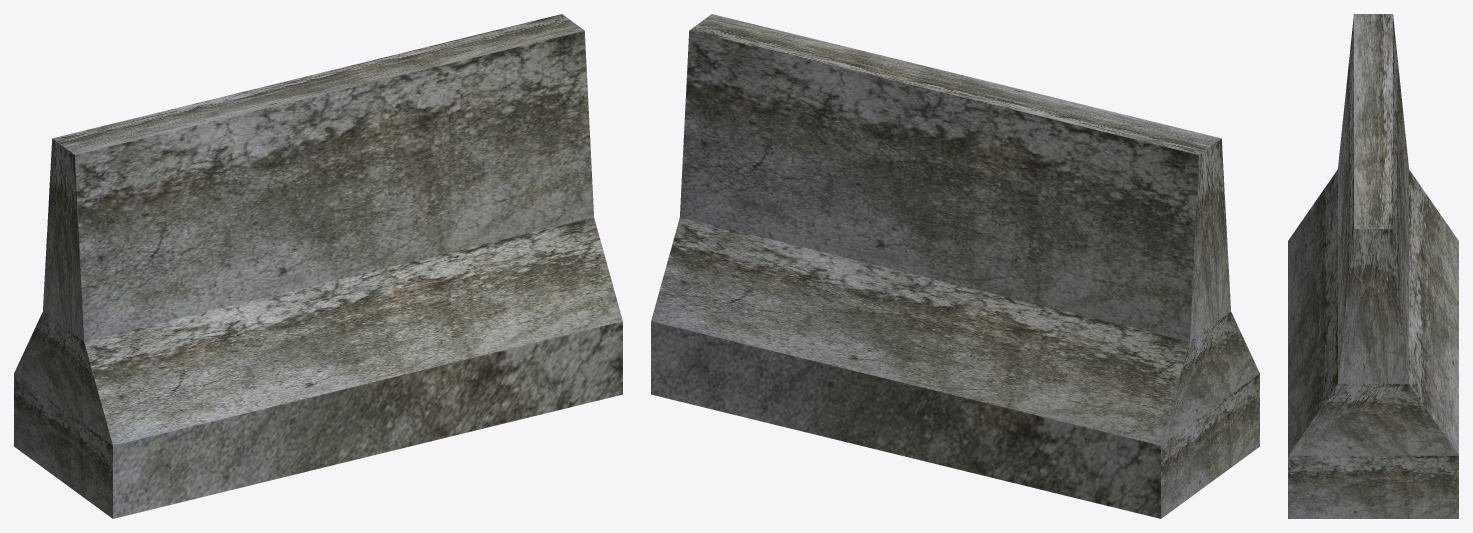
The model's file is HurdleBarricade_Prefab.fbx.
The picture shows the model from 3 angles, left to right: view 1: azimuth 30°, elevation 25°; view 2: azimuth 150°, elevation 25°; view 3: azimuth 270°, elevation 25°; orthographic projection. The views are drawn at different scales.
Parts seen in each view (by area): view 1: Box001; view 2: Box001; view 3: Box001.
Part boxes in pixels (bbox=[...]): Box001: bbox=[14, 14, 622, 518]; Box001: bbox=[651, 14, 1259, 518]; Box001: bbox=[1288, 14, 1458, 518].
Bounding box in the file's own units: 78.89 × 49.68 × 26.5.
